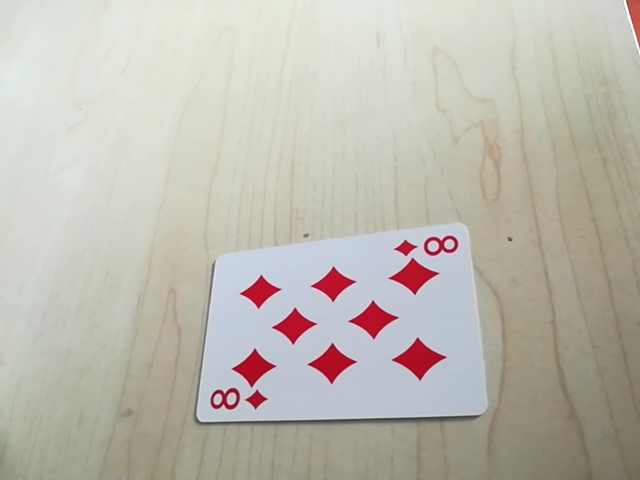fk 8: (393, 230, 463, 263), (203, 385, 272, 418)
